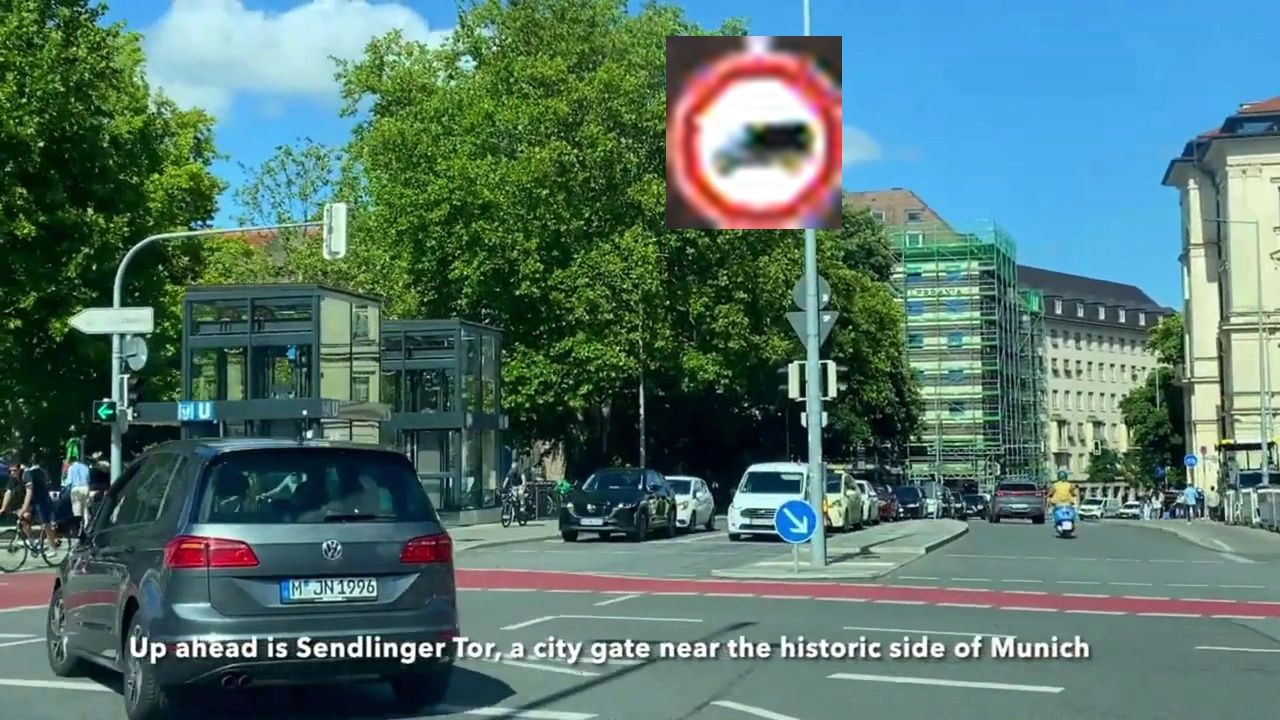Veh >3.5t prohib: (666, 36, 842, 229)
